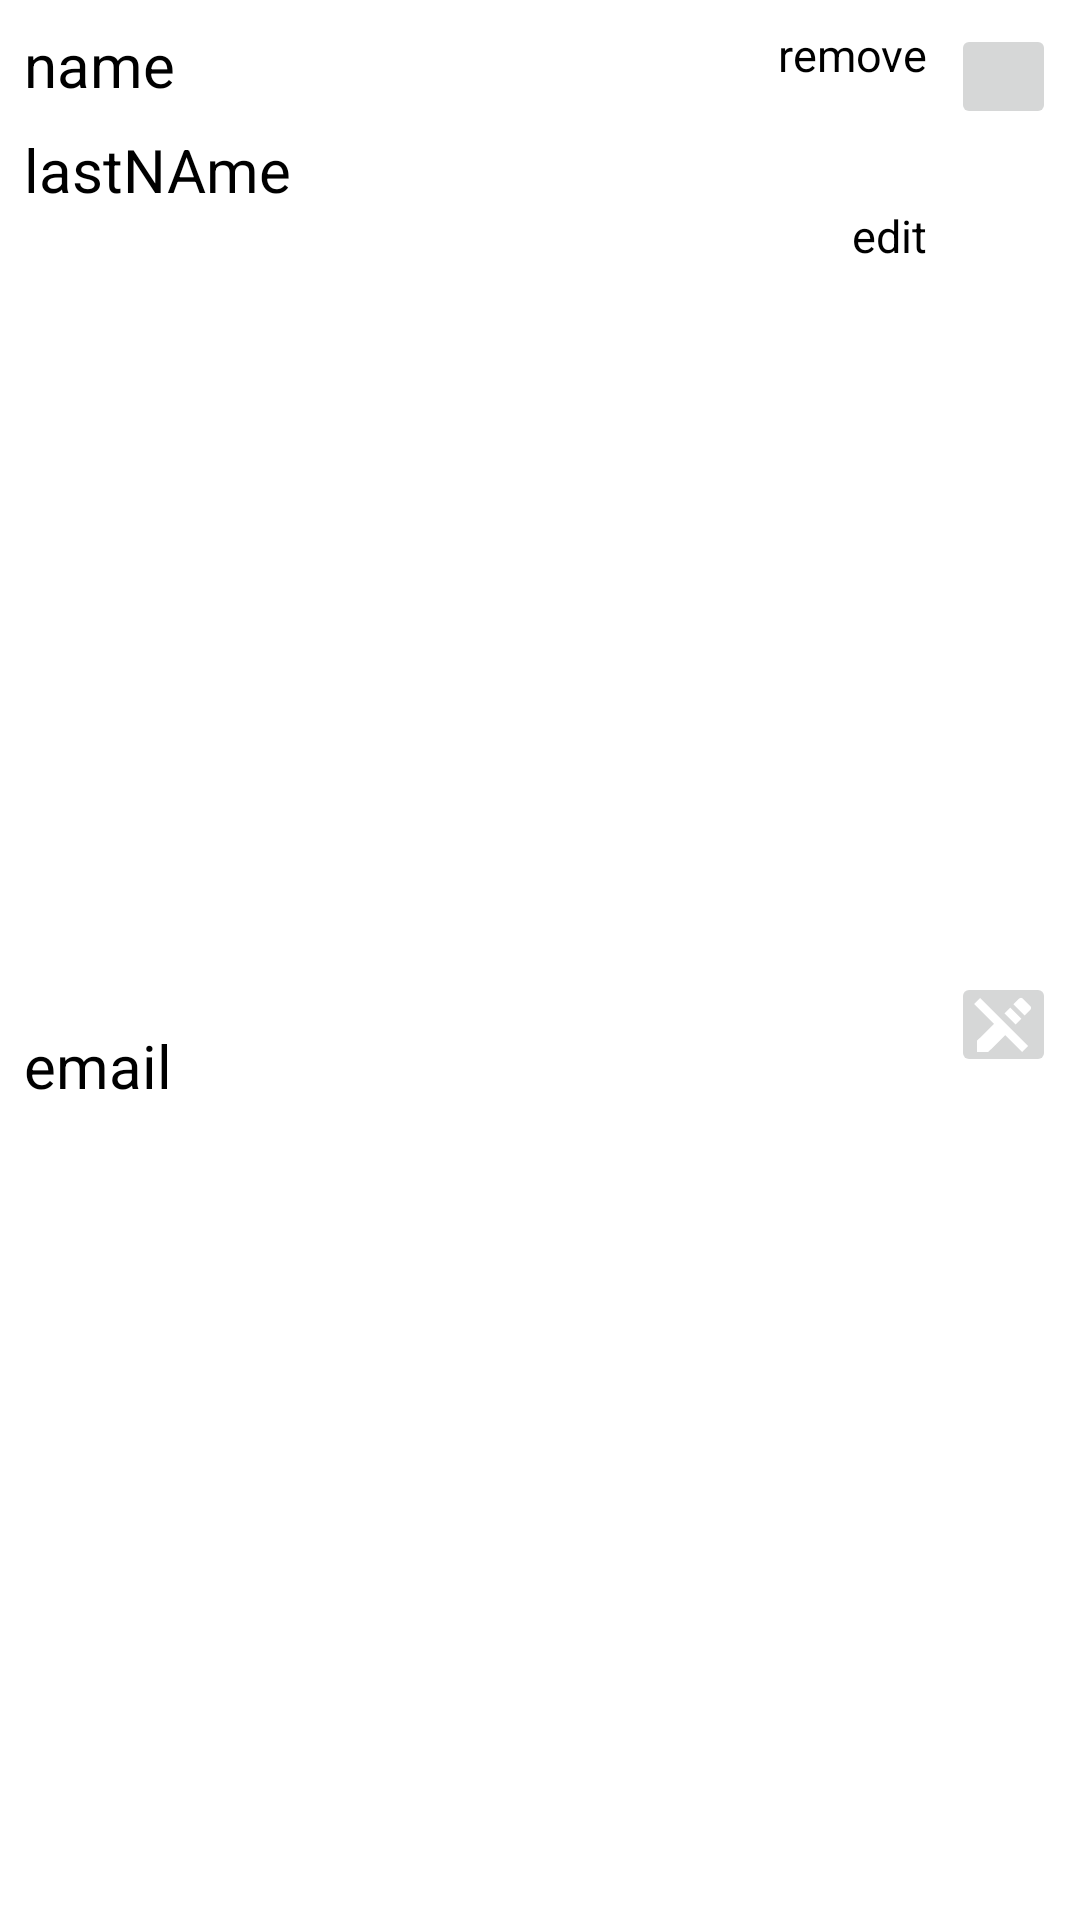

Screen size 1080 x 1920. Icon name, then its box in pixels as (x1, y1, x2, y2):
edits: (963, 990, 1044, 1059)
